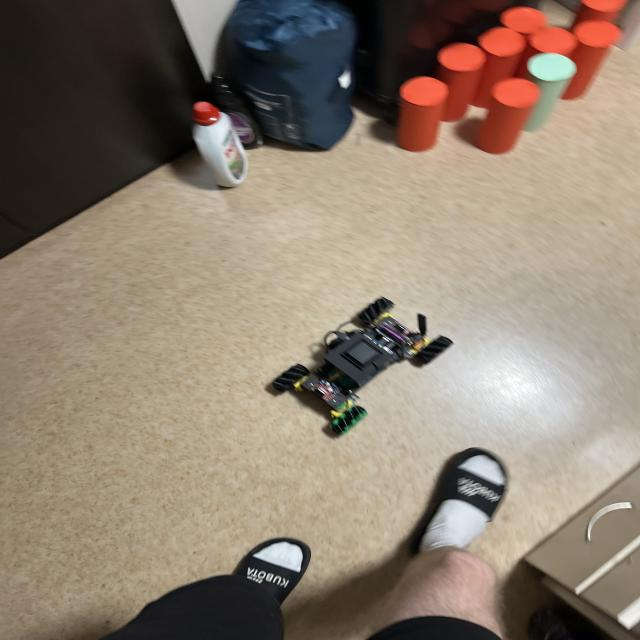robot: (271, 297, 454, 434)
